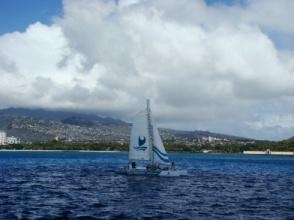fanchuan: (121, 104, 181, 174)
